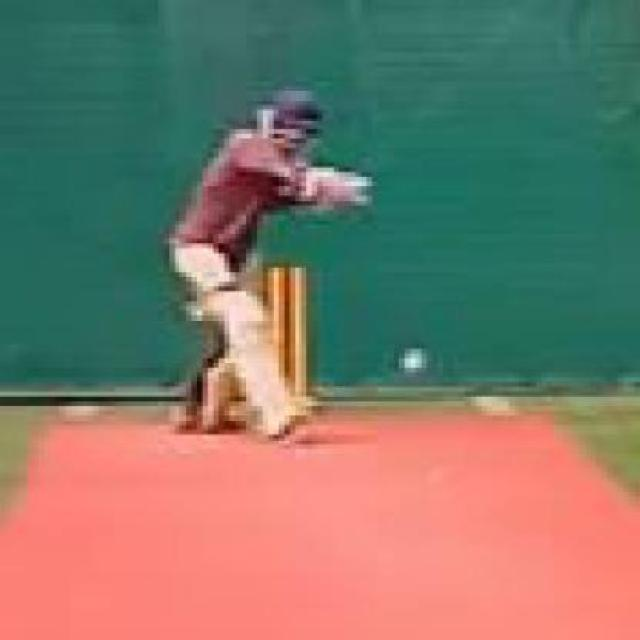ball: (390, 344, 432, 378)
